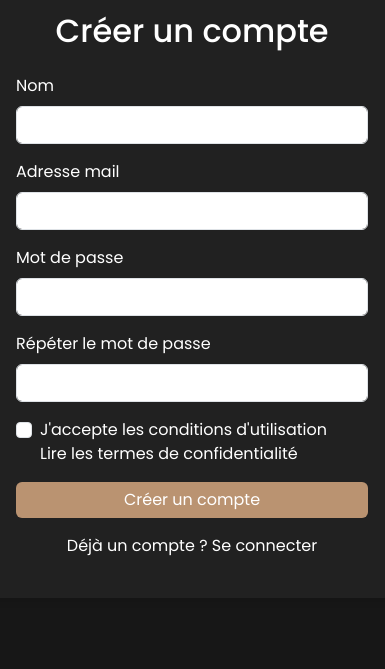
SignupPage.vue - Form Validation › should display error if email format is incorrect
The image size is (385, 669).
In the field with id "email": (192, 211) [16,192,368,230], type "test@"
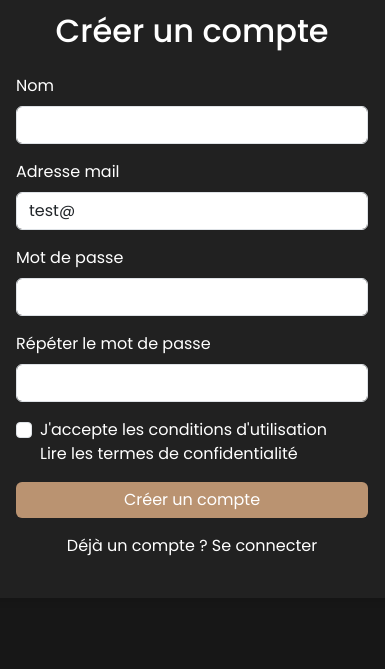
Submit the form
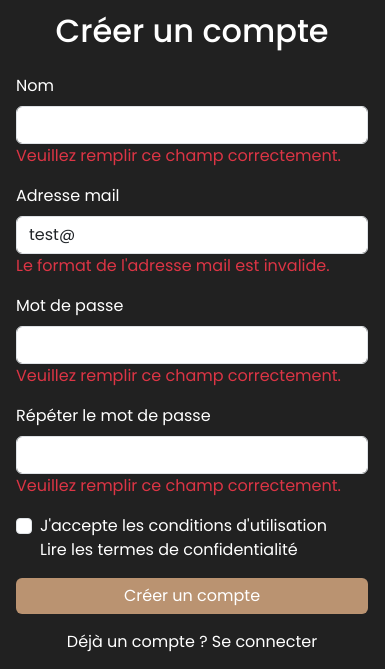
Expected: the message "Le format de l'adresse mail est invalide." is shown, [16,254,330,277]
